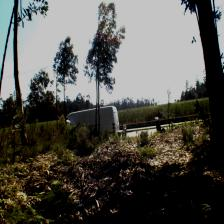trunktrack_idkeyframe: (197, 16, 223, 140), (13, 22, 30, 147)
